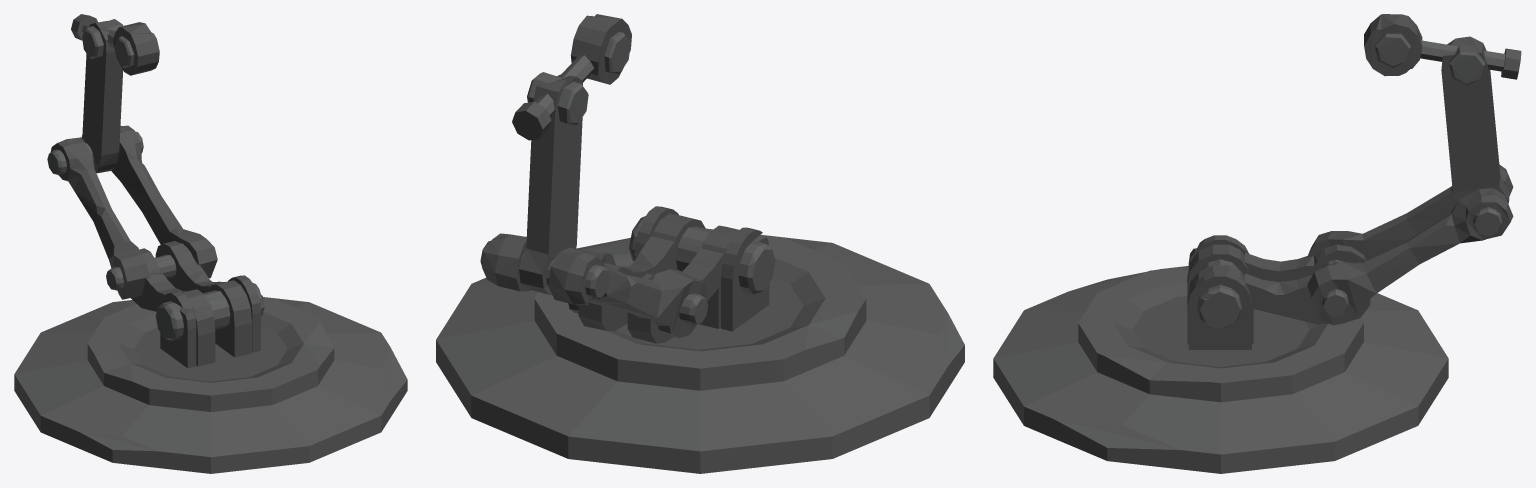
File: Board_Stand_Preset_001.fbx
3 renders of one model, left to right at view 1: azimuth 30°, elevation 25°; view 2: azimuth 150°, elevation 25°; view 3: azimuth 270°, elevation 25°, orthographic. The views are drawn at different scales.
Visible parts, largest first — view 1: Board_Stand_Preset_001.003_004, Board_Stand_Preset_001.003_002, Board_Stand_Preset_001.003_003, Board_Stand_Preset_001.003_001; view 2: Board_Stand_Preset_001.003_004, Board_Stand_Preset_001.003_002, Board_Stand_Preset_001.003_003, Board_Stand_Preset_001.003_001; view 3: Board_Stand_Preset_001.003_004, Board_Stand_Preset_001.003_002, Board_Stand_Preset_001.003_003, Board_Stand_Preset_001.003_001.
Part boxes in pixels (x1=…): Board_Stand_Preset_001.003_004: x1=14, y1=241, x2=407, y2=473; Board_Stand_Preset_001.003_002: x1=50, y1=125, x2=217, y2=299; Board_Stand_Preset_001.003_003: x1=47, y1=20, x2=143, y2=175; Board_Stand_Preset_001.003_001: x1=71, y1=14, x2=159, y2=75; Board_Stand_Preset_001.003_004: x1=436, y1=206, x2=964, y2=473; Board_Stand_Preset_001.003_002: x1=482, y1=233, x2=708, y2=338; Board_Stand_Preset_001.003_003: x1=480, y1=74, x2=609, y2=299; Board_Stand_Preset_001.003_001: x1=512, y1=14, x2=631, y2=140; Board_Stand_Preset_001.003_004: x1=993, y1=235, x2=1448, y2=473; Board_Stand_Preset_001.003_002: x1=1307, y1=164, x2=1513, y2=325; Board_Stand_Preset_001.003_003: x1=1441, y1=36, x2=1509, y2=235; Board_Stand_Preset_001.003_001: x1=1364, y1=14, x2=1521, y2=85.
Size of the model in its own units: 0.6165 by 0.5367 by 0.7152.
